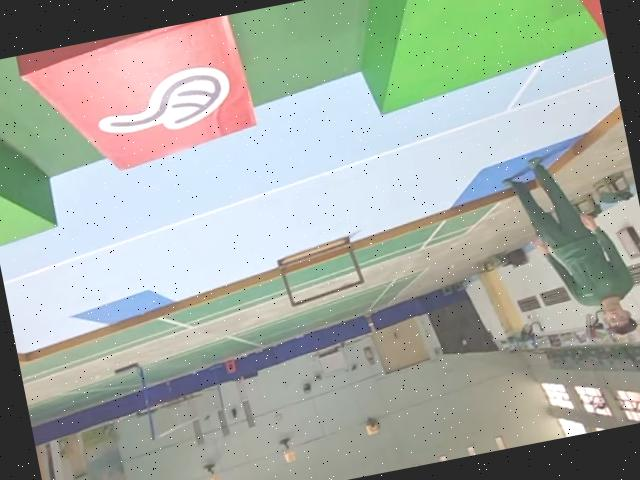R2 Fake: (16, 12, 262, 185)
